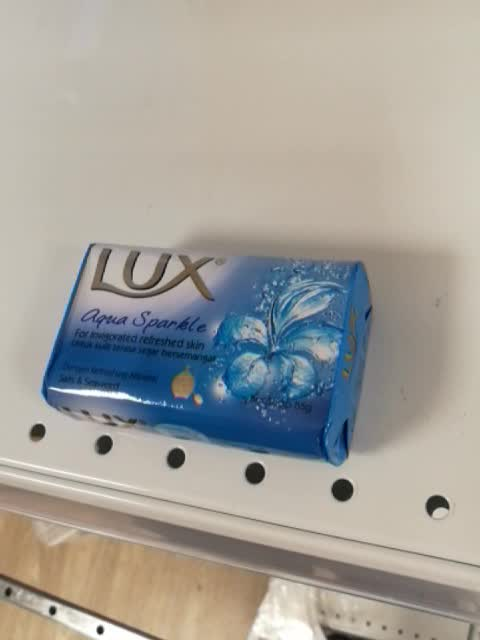soap: (38, 241, 374, 469)
